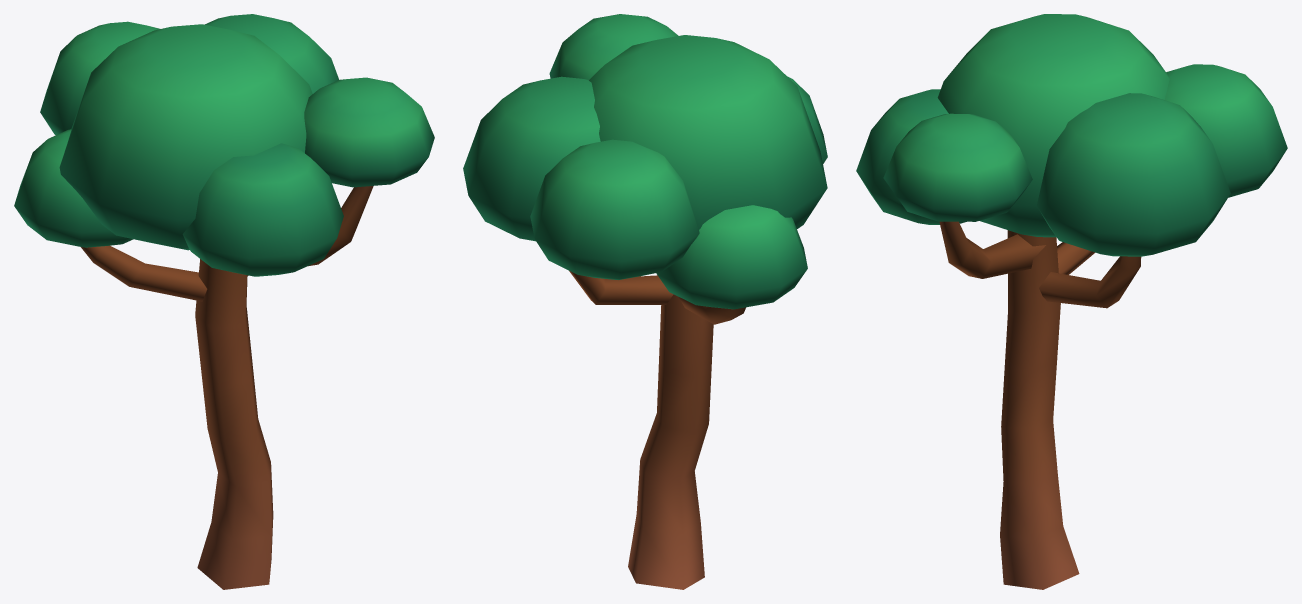
File: Pohon_Sedang.fbx
3 renders of one model, left to right at view 1: azimuth 30°, elevation 25°; view 2: azimuth 150°, elevation 25°; view 3: azimuth 270°, elevation 25°, orthographic.
Visible parts, largest first — view 1: tree.001; view 2: tree.001; view 3: tree.001.
Part boxes in pixels (left/top/right/bottom): tree.001: left=14, top=14, right=434, bottom=589; tree.001: left=463, top=14, right=827, bottom=589; tree.001: left=856, top=14, right=1287, bottom=589.
Size of the model in its own units: 423 by 681 by 505.
